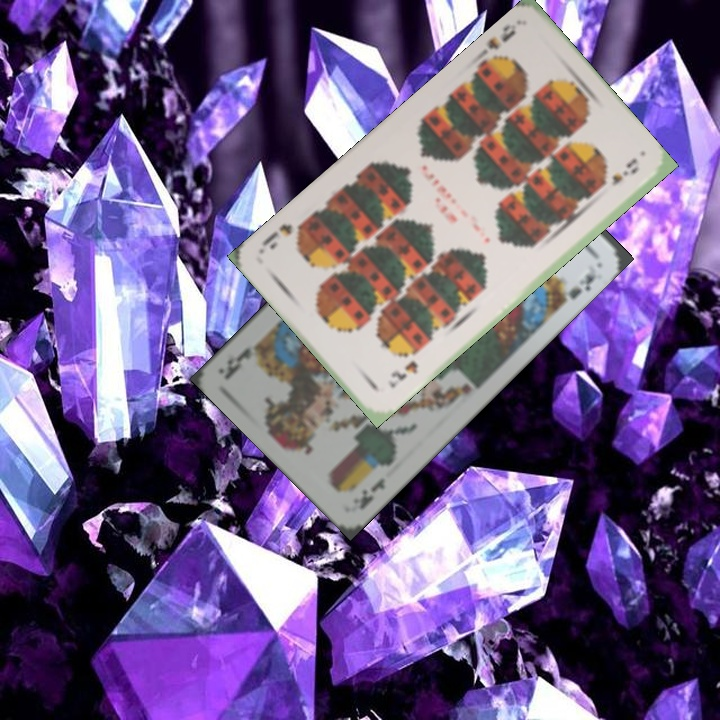EK: (355, 473, 388, 513)
S9: (472, 20, 520, 65), (384, 356, 421, 391)
